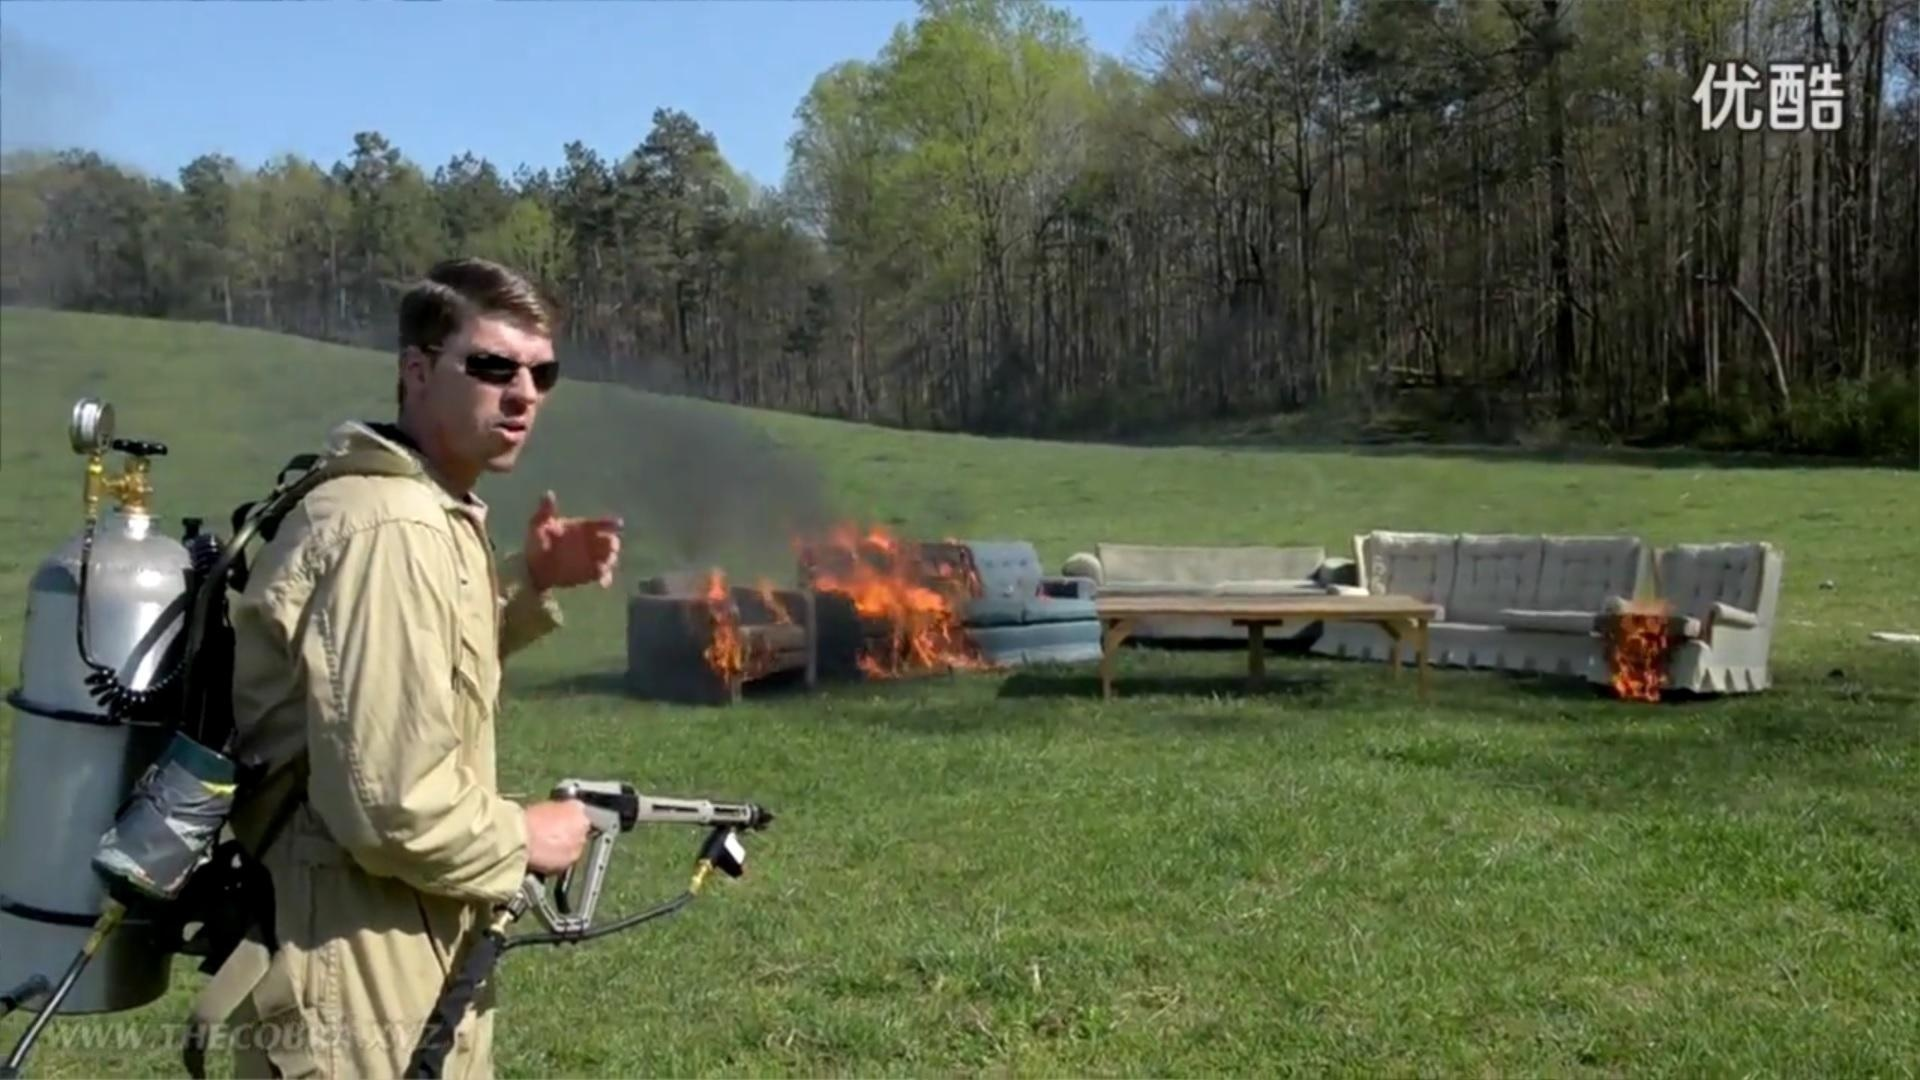fire: (703, 527, 993, 686), (1606, 603, 1676, 702)
